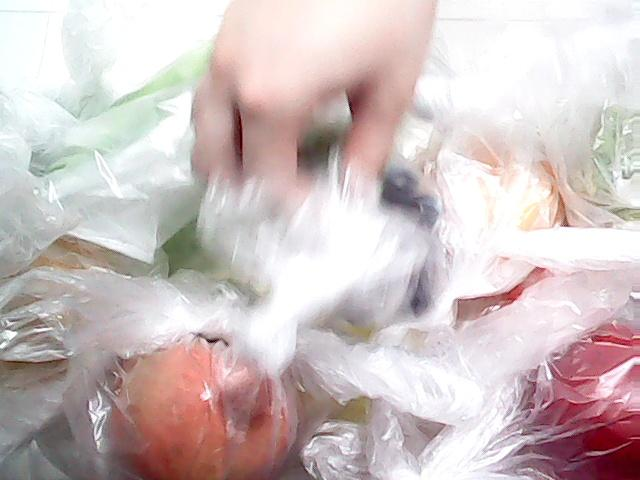apple: (488, 304, 640, 480)
cabbage: (555, 51, 640, 228)
grape: (253, 144, 474, 336)
lemon: (443, 142, 595, 302)
peach: (106, 328, 300, 480)
pepper: (32, 20, 296, 184)
potato: (0, 221, 134, 372)
